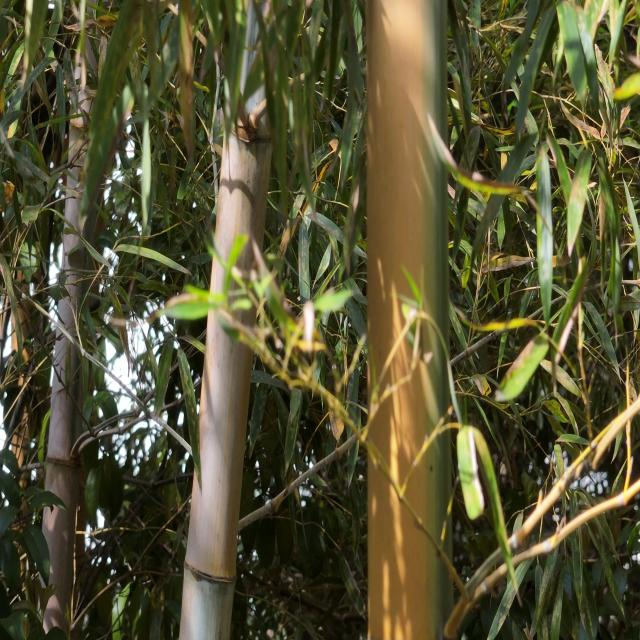Bamboo-shoots: (177, 0, 278, 640)
